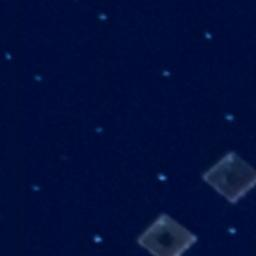square_cover: (200, 146, 256, 206), (133, 209, 200, 256)
